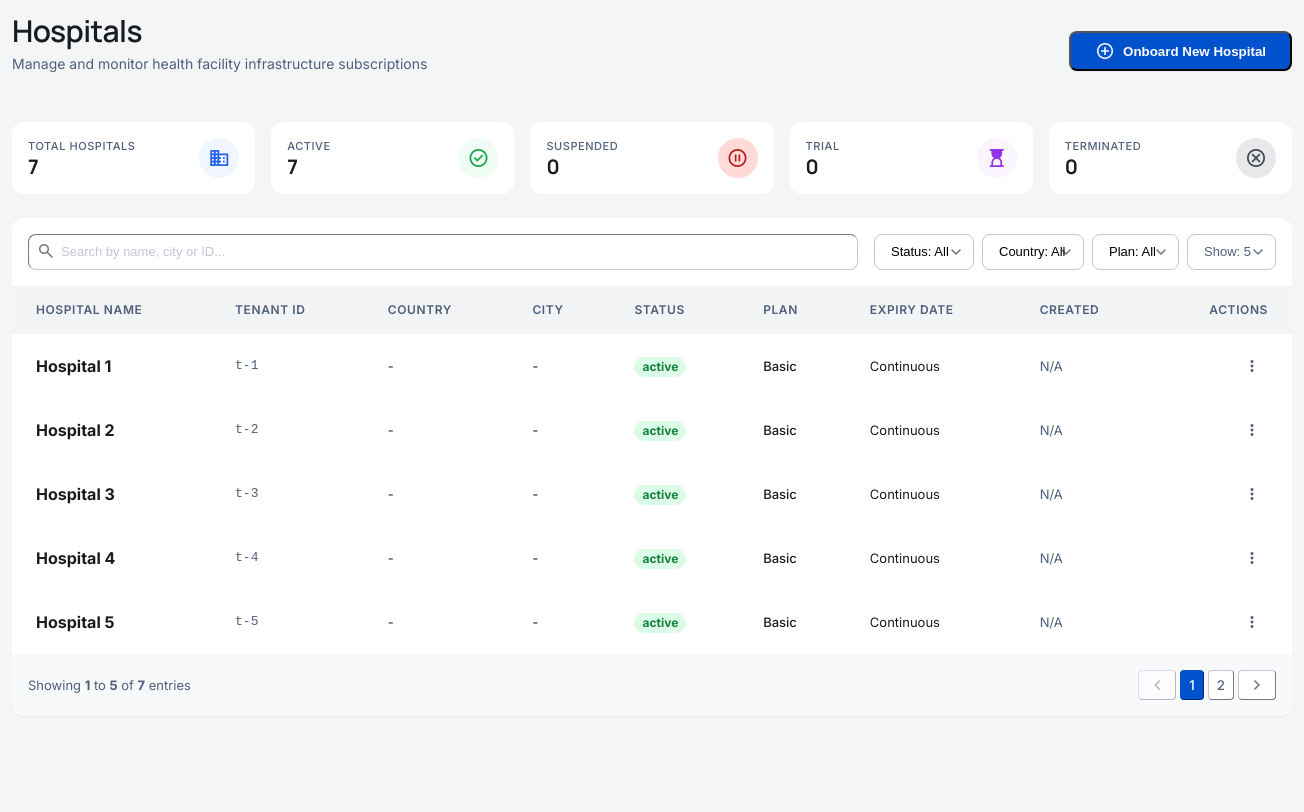
Test case: TenantManagementPage › handles pagination correctly when there are multiple pages of hospitals
Expected: the text "Hospital 1" is shown, [12,334,211,398]
Expected: the text "Hospital 5" is shown, [12,590,211,654]
Note: Find and click page button "2" or chevron right
Click the button "2": (1221, 685) [1208,670,1234,700]
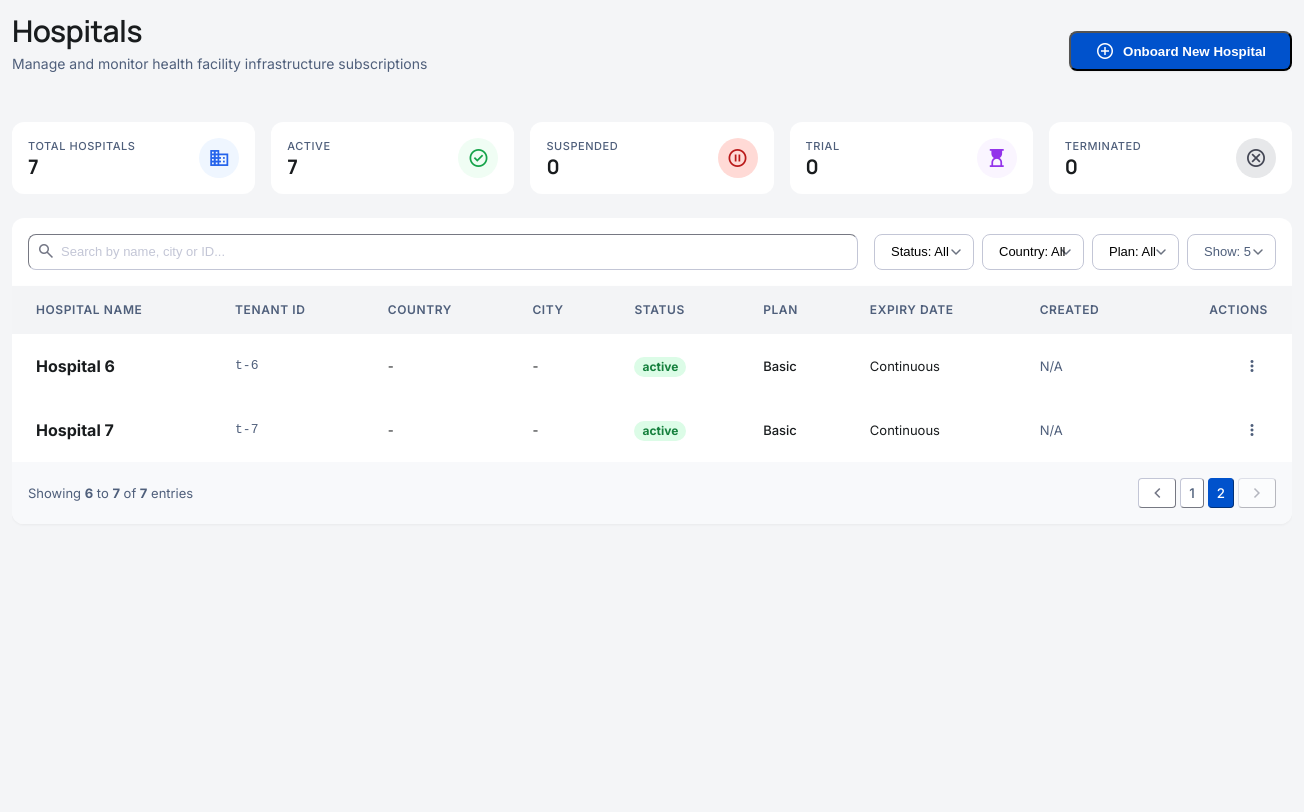
Now the text "Hospital 6" is shown, box [12,334,211,398]
Now the text "Hospital 7" is shown, box [12,398,211,462]
Now the text "Hospital 1" is gone
